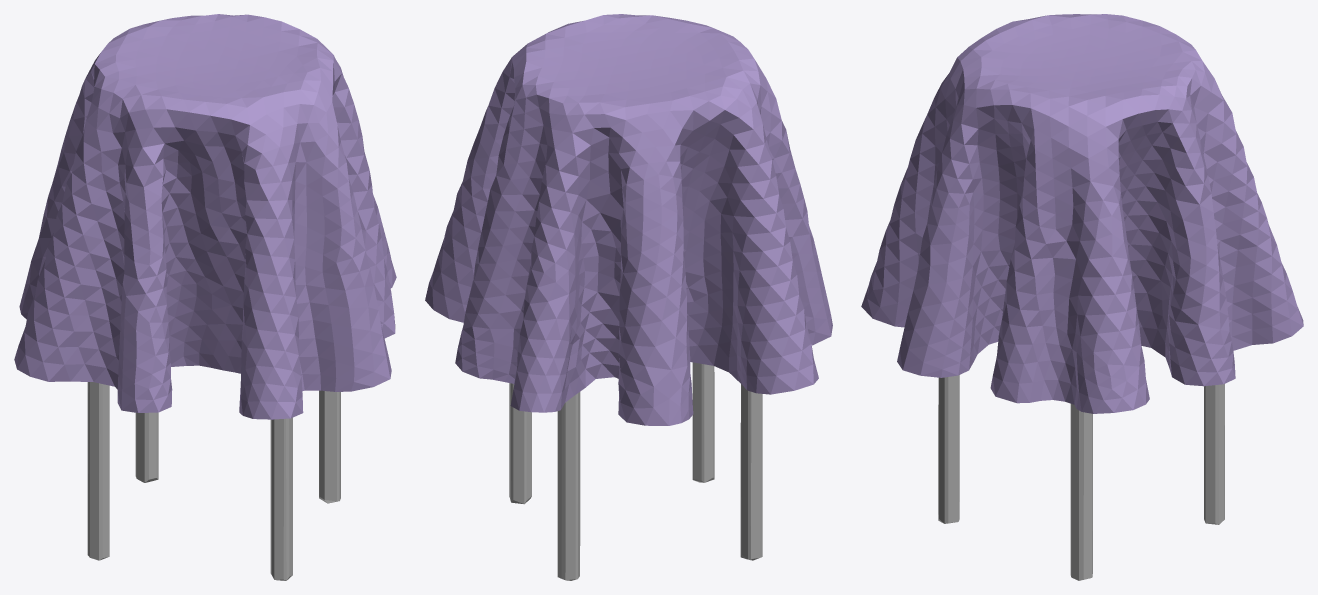
The model's file is level_1.glb.
The picture shows the model from 3 angles, left to right: view 1: azimuth 30°, elevation 25°; view 2: azimuth 150°, elevation 25°; view 3: azimuth 270°, elevation 25°; orthographic projection.
Visible parts, largest first — view 1: world, object.obj; view 2: world, object.obj; view 3: world, object.obj.
Boxes of the visible parts, x1,y1,x2,y2 form: world: (14, 14, 396, 419); object.obj: (87, 382, 340, 580); world: (425, 14, 832, 425); object.obj: (509, 362, 762, 580); world: (861, 14, 1303, 413); object.obj: (938, 375, 1224, 580).
Bounding box in the file's own units: 0.2674 × 0.3171 × 0.2732.
